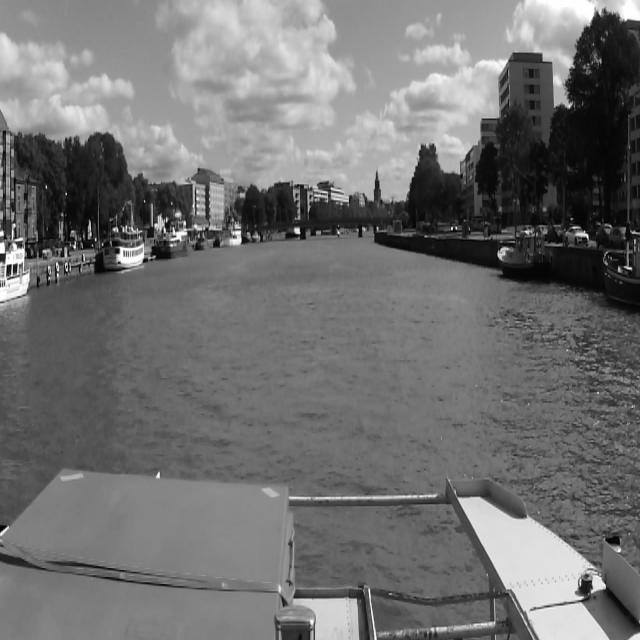ship: (104, 201, 144, 270), (497, 235, 553, 282), (0, 223, 30, 307), (152, 218, 190, 260), (220, 217, 242, 247), (196, 237, 209, 251), (242, 231, 252, 244), (253, 231, 261, 244)
